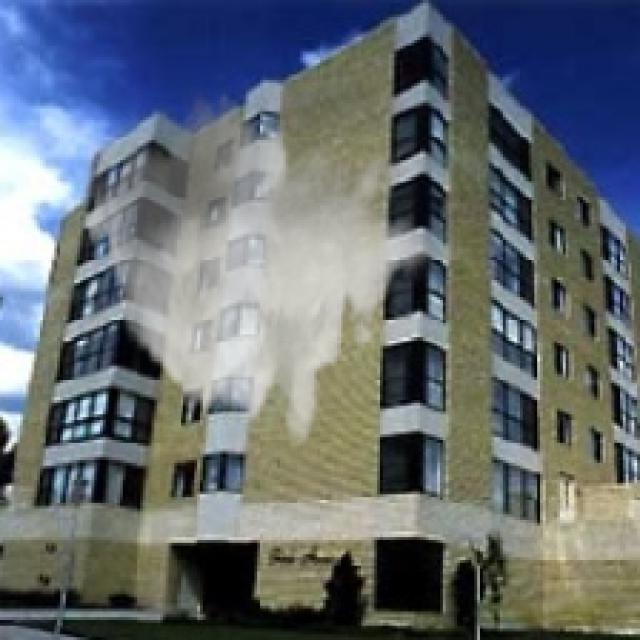Smoke: (80, 86, 432, 452)
